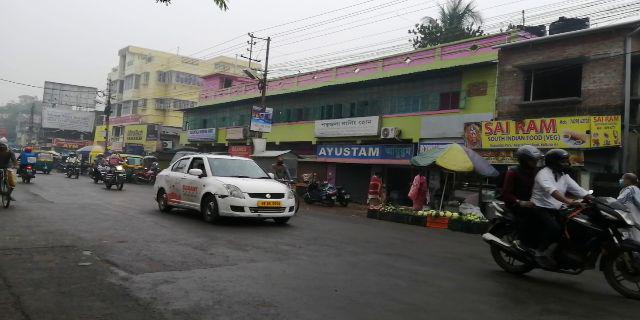Car: (154, 151, 298, 223)
Motorbike: (482, 145, 631, 284), (100, 143, 126, 189)
